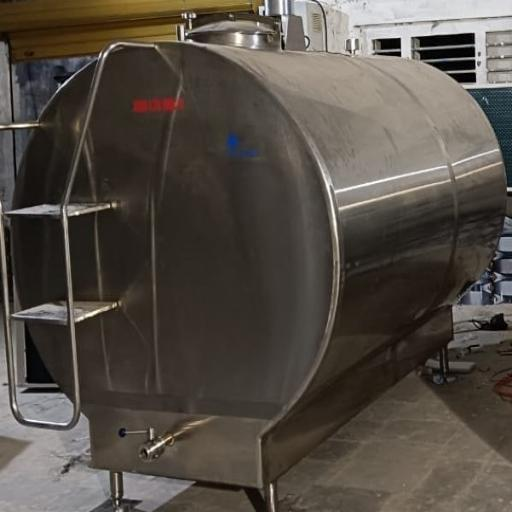silo: (7, 15, 507, 505)
